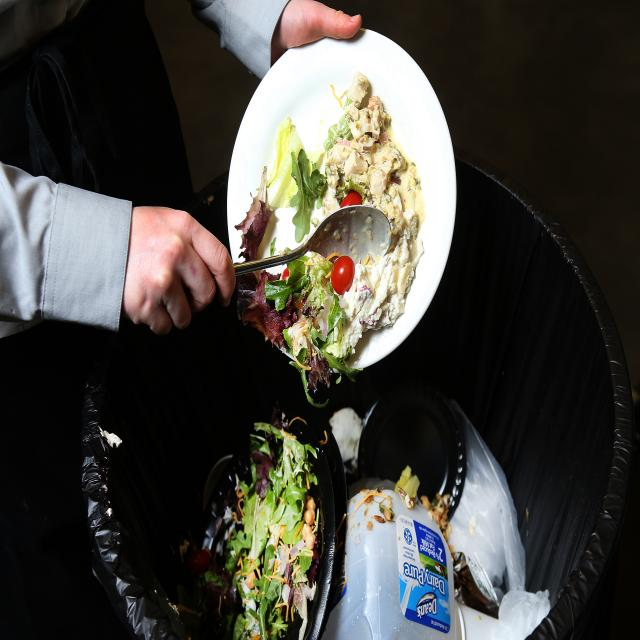Food -Biodegradable-: (233, 77, 423, 377), (171, 435, 320, 640)
